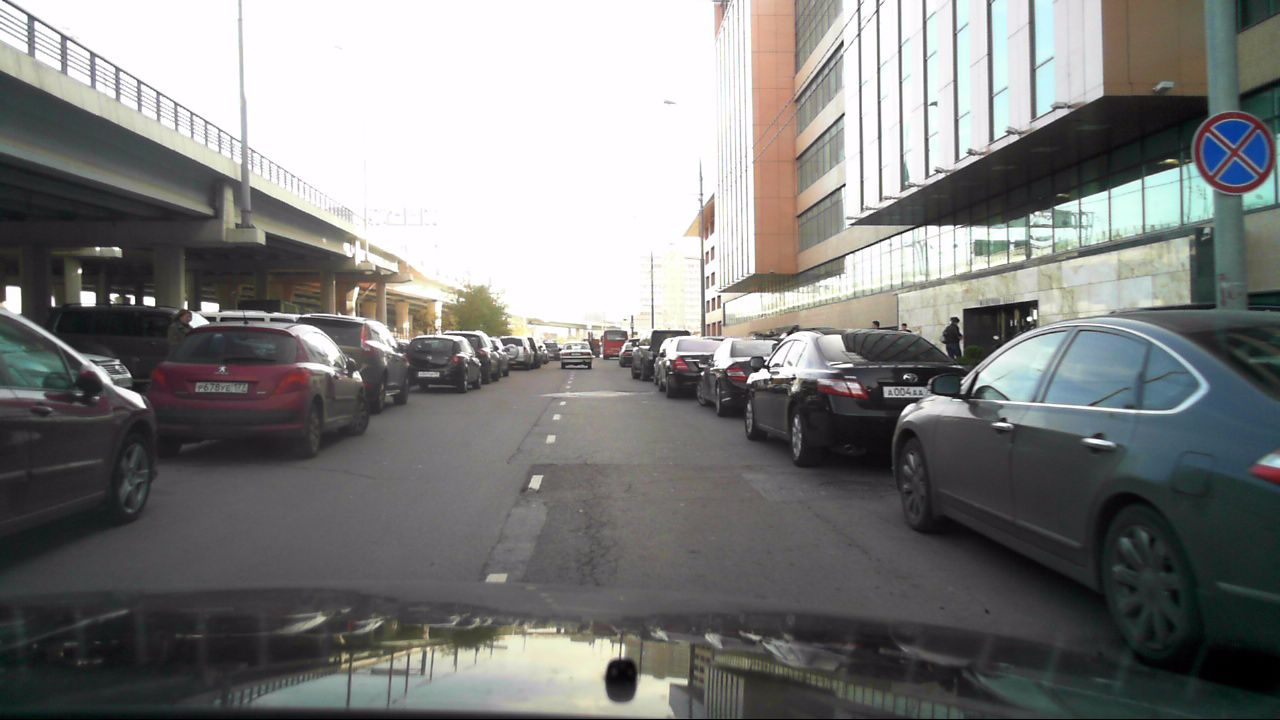No Parking: (1191, 108, 1277, 197)
